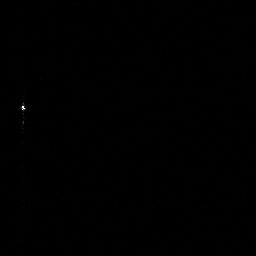ship: (20, 100, 26, 124)
